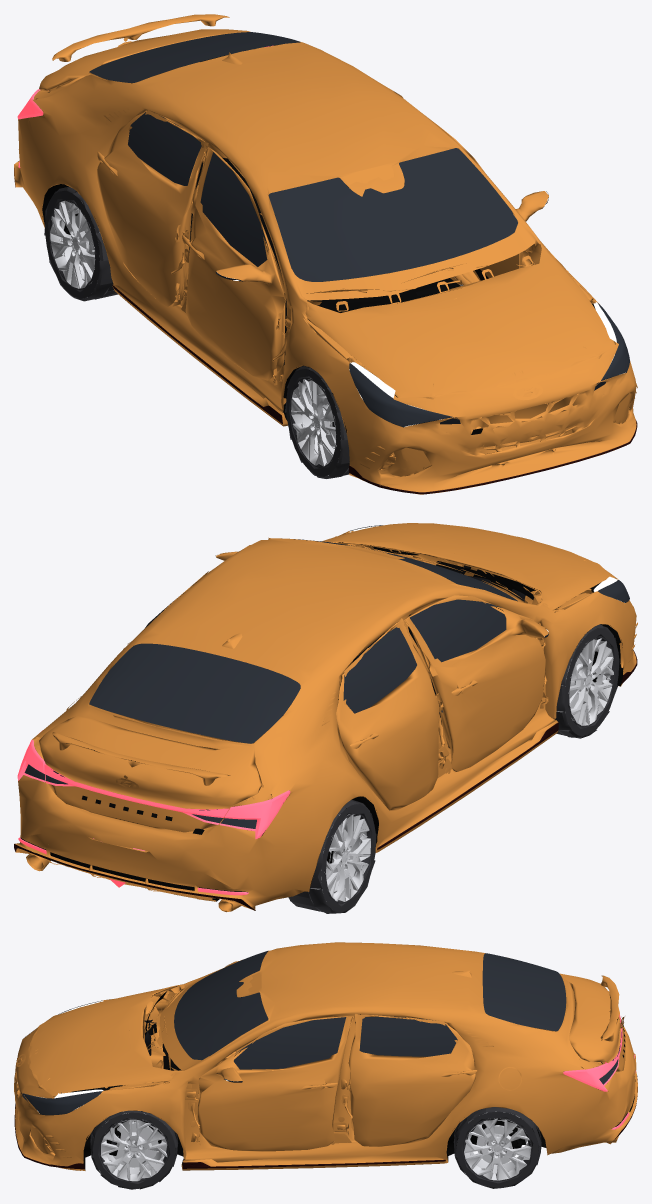
Rendered from elantran.glb.
3 renders of one model, top to bottom at view 1: azimuth 30°, elevation 25°; view 2: azimuth 150°, elevation 25°; view 3: azimuth 270°, elevation 25°, orthographic. The views are drawn at different scales.
Visible parts, largest first — view 1: h:Badge_Geo_lodA_Badge_Geo_lodA_Hyundai_ElantraNRewardRecycl, elantran_wheel_RR.001, elantran_wheel_FR.001; view 2: h:Badge_Geo_lodA_Badge_Geo_lodA_Hyundai_ElantraNRewardRecycl, elantran_wheel_RR.001, elantran_wheel_FR.001; view 3: h:Badge_Geo_lodA_Badge_Geo_lodA_Hyundai_ElantraNRewardRecycl, elantran_wheel_RL.001, elantran_wheel_FL.001.
Boxes of the visible parts, <box> form: h:Badge_Geo_lodA_Badge_Geo_lodA_Hyundai_ElantraNRewardRecycl: <box>14,14,637,494</box>; elantran_wheel_RR.001: <box>44,186,117,301</box>; elantran_wheel_FR.001: <box>285,366,349,478</box>; h:Badge_Geo_lodA_Badge_Geo_lodA_Hyundai_ElantraNRewardRecycl: <box>14,523,637,912</box>; elantran_wheel_RR.001: <box>288,799,376,913</box>; elantran_wheel_FR.001: <box>554,624,620,738</box>; h:Badge_Geo_lodA_Badge_Geo_lodA_Hyundai_ElantraNRewardRecycl: <box>14,942,637,1170</box>; elantran_wheel_RL.001: <box>453,1107,541,1188</box>; elantran_wheel_FL.001: <box>90,1110,178,1189</box>.
Size of the model in its own units: 2.15 by 1.4 by 4.67.
